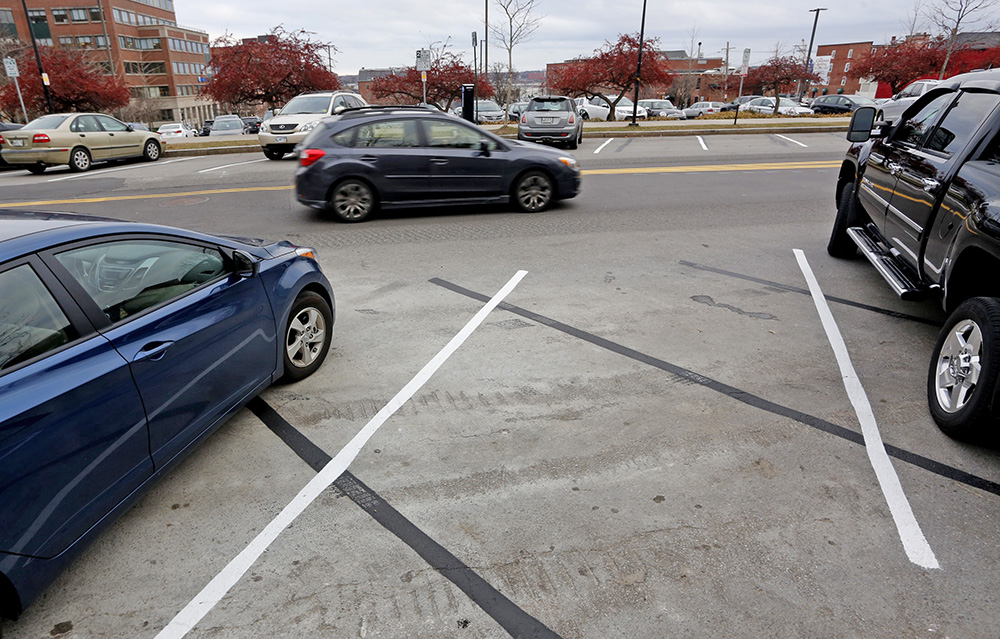empyt_space: (140, 239, 961, 639), (63, 139, 276, 183), (590, 124, 711, 159), (695, 125, 807, 158), (775, 127, 875, 152)
